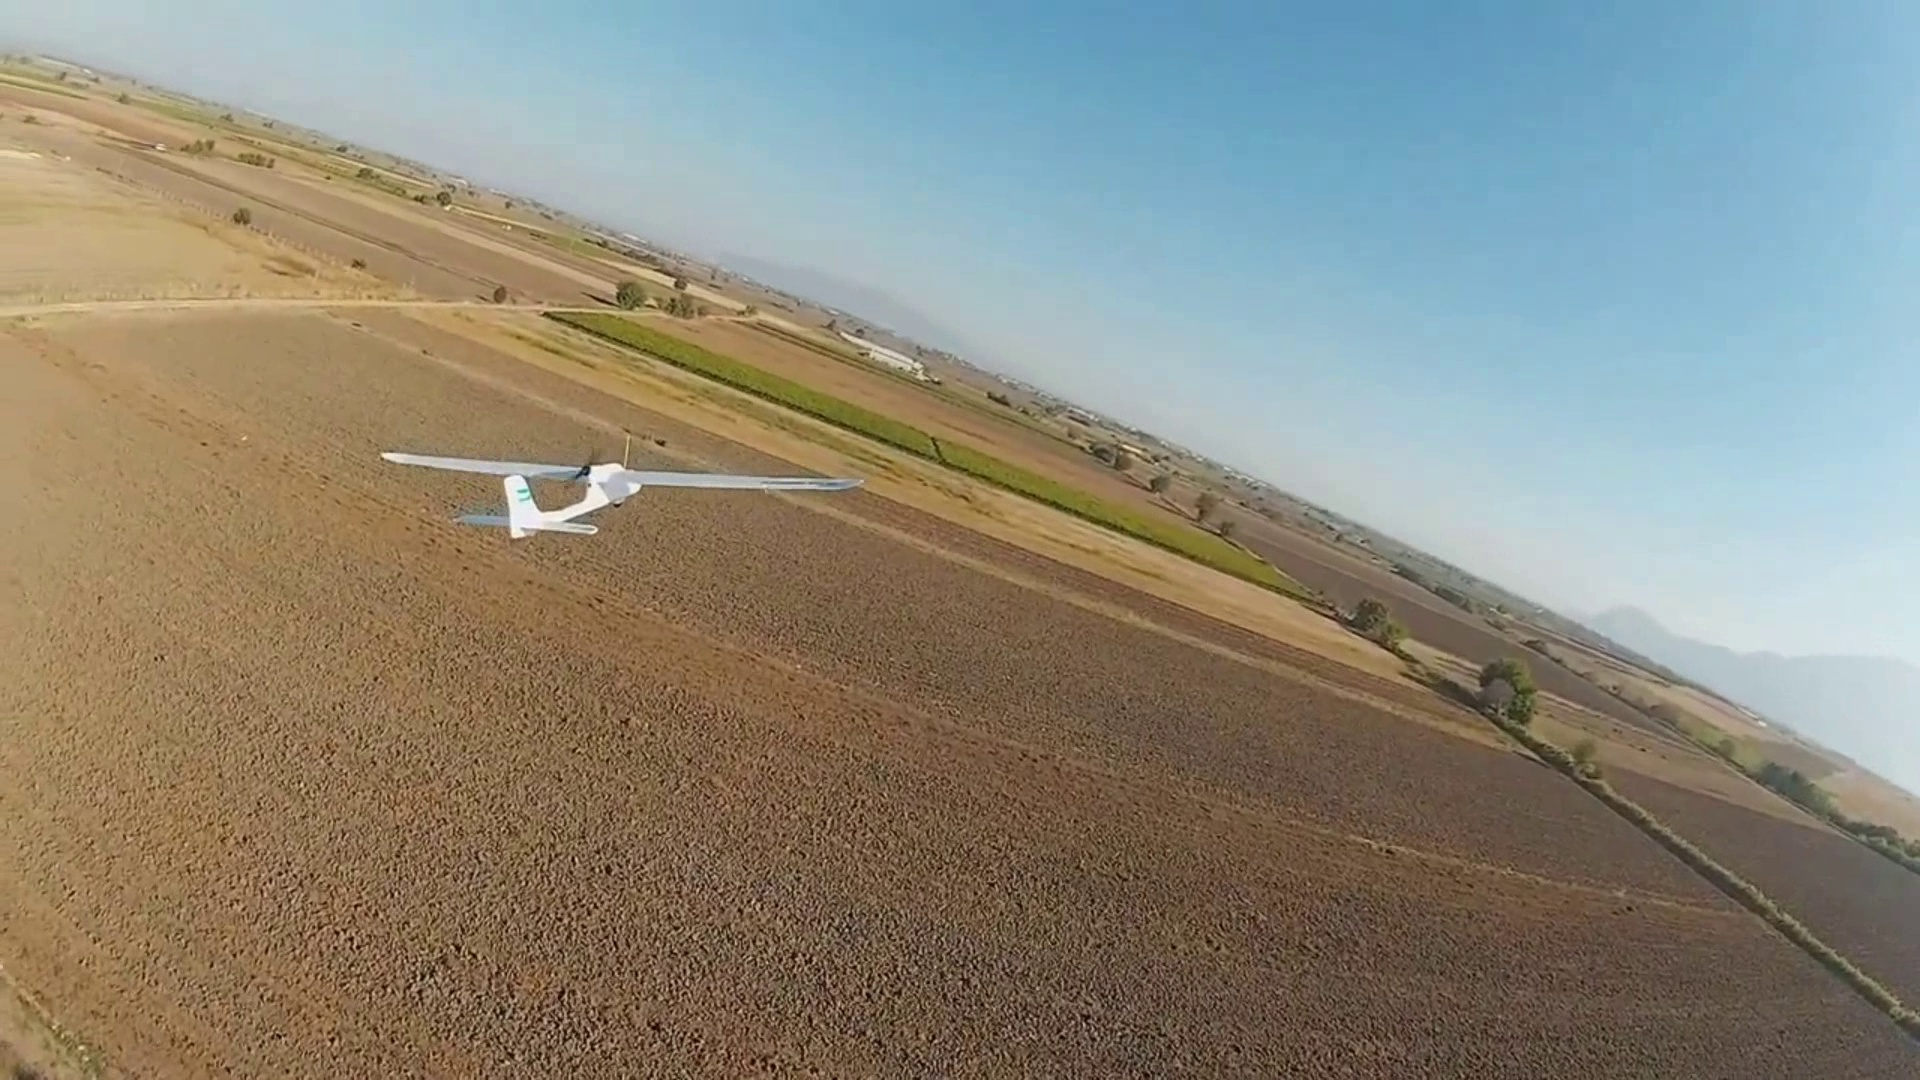airplane: (378, 446, 858, 539), (378, 448, 646, 537)
